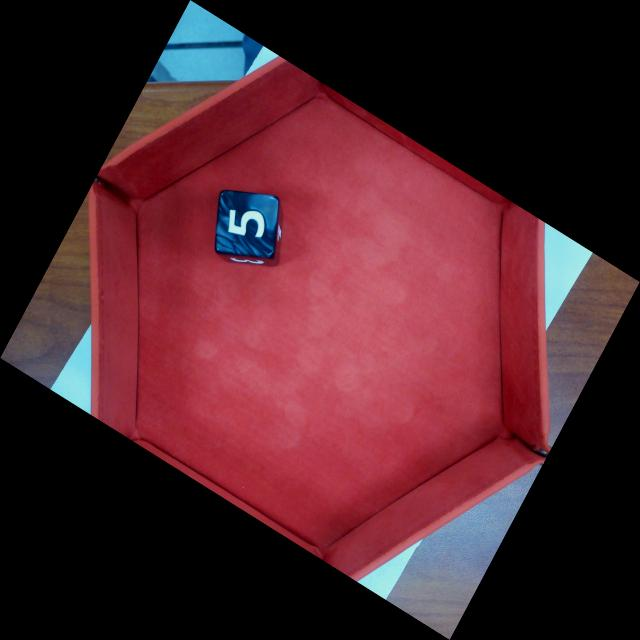dice: (216, 190, 278, 256)
